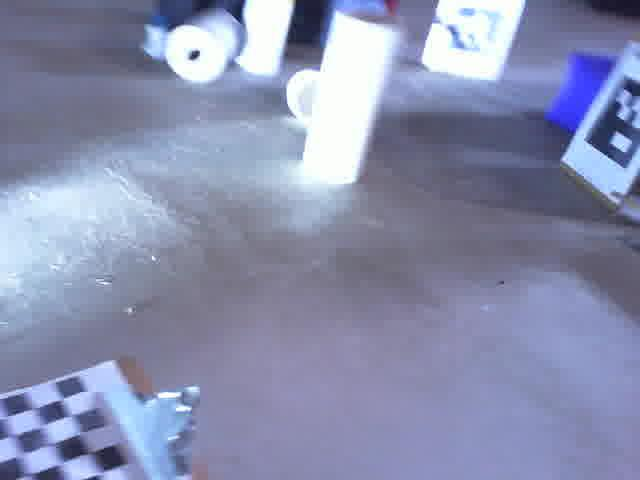coral: (294, 13, 412, 184), (274, 61, 333, 125)
